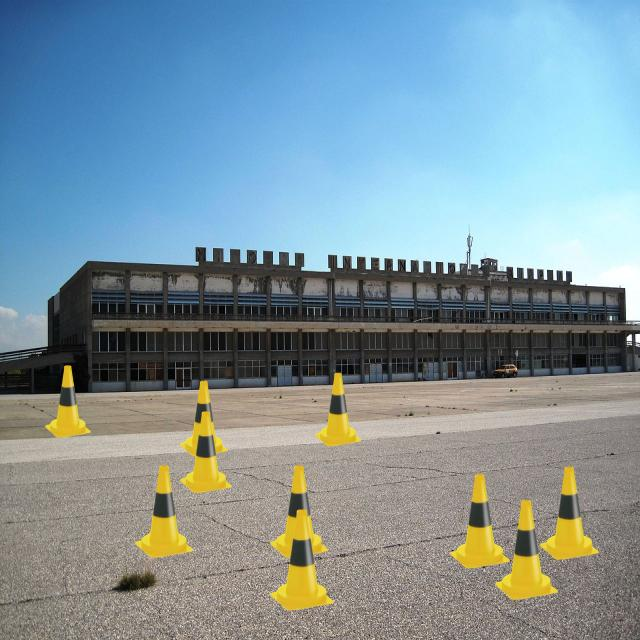yellow_cone: (270, 509, 334, 611), (495, 500, 558, 600), (450, 474, 510, 569), (540, 467, 599, 560), (270, 465, 328, 558), (135, 465, 193, 558), (180, 412, 232, 494), (180, 381, 228, 456), (315, 372, 361, 447), (45, 365, 91, 438)
